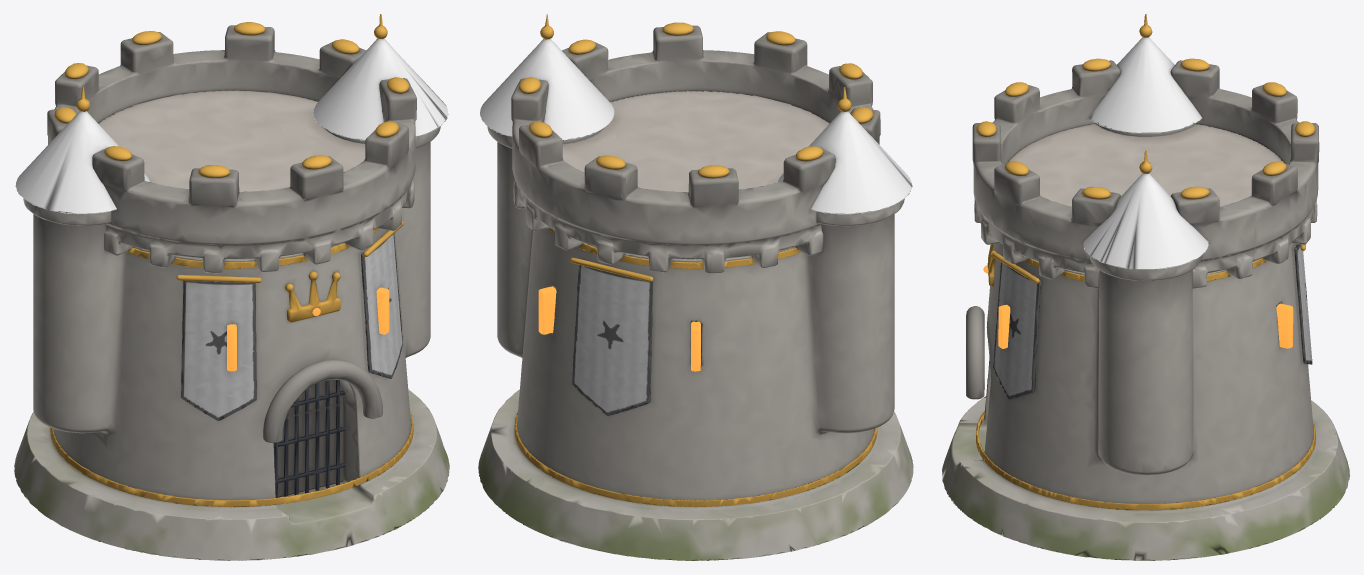
Rendered from tower-king.glb.
3 views of the same model, side by side, from view 1: azimuth 30°, elevation 25°; view 2: azimuth 150°, elevation 25°; view 3: azimuth 270°, elevation 25° (orthographic). The views are drawn at different scales.
Visible parts, largest first — view 1: tower-king_stone, tower-king_wood, tower-king_metal, tower-king_team, tower-king_roof, tower-king_glow; view 2: tower-king_stone, tower-king_wood, tower-king_roof, tower-king_team, tower-king_metal, tower-king_glow; view 3: tower-king_stone, tower-king_wood, tower-king_roof, tower-king_metal, tower-king_team, tower-king_glow.
Part boxes in pixels (bbox=[...]): tower-king_stone: bbox=[14, 25, 449, 560]; tower-king_wood: bbox=[98, 90, 365, 497]; tower-king_metal: bbox=[50, 14, 413, 507]; tower-king_team: bbox=[181, 233, 402, 420]; tower-king_roof: bbox=[15, 38, 448, 214]; tower-king_glow: bbox=[227, 287, 389, 371]; tower-king_stone: bbox=[478, 25, 913, 560]; tower-king_wood: bbox=[562, 90, 829, 192]; tower-king_roof: bbox=[480, 38, 912, 214]; tower-king_team: bbox=[572, 265, 652, 415]; tower-king_metal: bbox=[514, 14, 877, 507]; tower-king_glow: bbox=[538, 286, 700, 371]; tower-king_stone: bbox=[942, 60, 1349, 560]; tower-king_wood: bbox=[1007, 124, 1283, 206]; tower-king_roof: bbox=[1083, 37, 1208, 269]; tower-king_metal: bbox=[976, 14, 1315, 510]; tower-king_team: bbox=[993, 244, 1312, 399]; tower-king_glow: bbox=[983, 265, 1293, 348].
Bounding box in the file's own units: 4.79 × 4.62 × 4.35.
